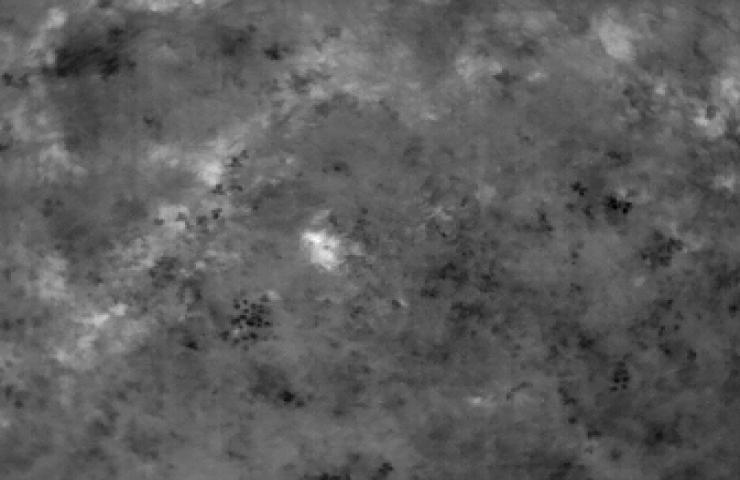landmines: (299, 225, 350, 271)
